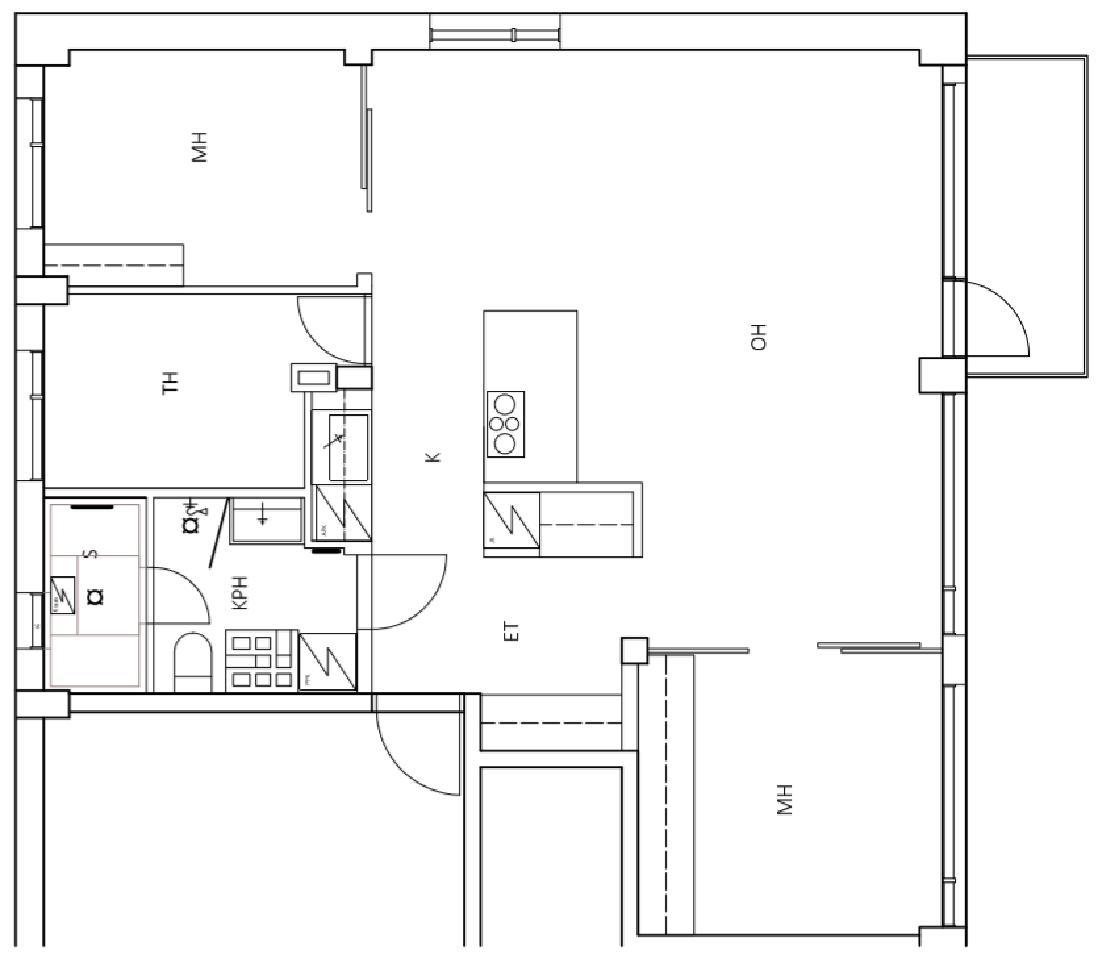door: (372, 698, 472, 804), (941, 275, 1040, 363), (354, 548, 450, 631), (297, 296, 371, 368), (148, 562, 210, 632)
window: (936, 401, 971, 631), (939, 61, 969, 277), (428, 10, 560, 50), (943, 685, 965, 923), (14, 96, 44, 239), (15, 347, 42, 479), (14, 590, 44, 643)
zone: (366, 43, 943, 696), (50, 703, 461, 946), (633, 653, 948, 932), (48, 48, 367, 290), (44, 289, 363, 488), (154, 493, 367, 688), (966, 59, 1082, 379), (480, 761, 630, 959), (43, 488, 152, 692)
